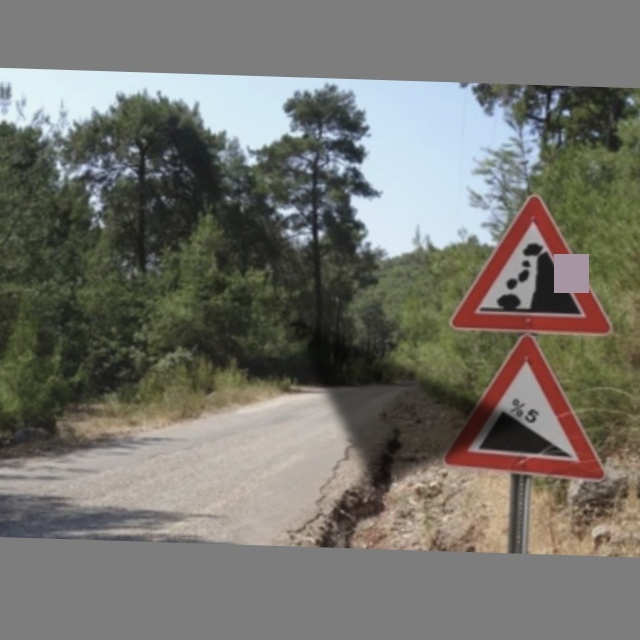Falling_Rocks: (456, 188, 611, 332)
